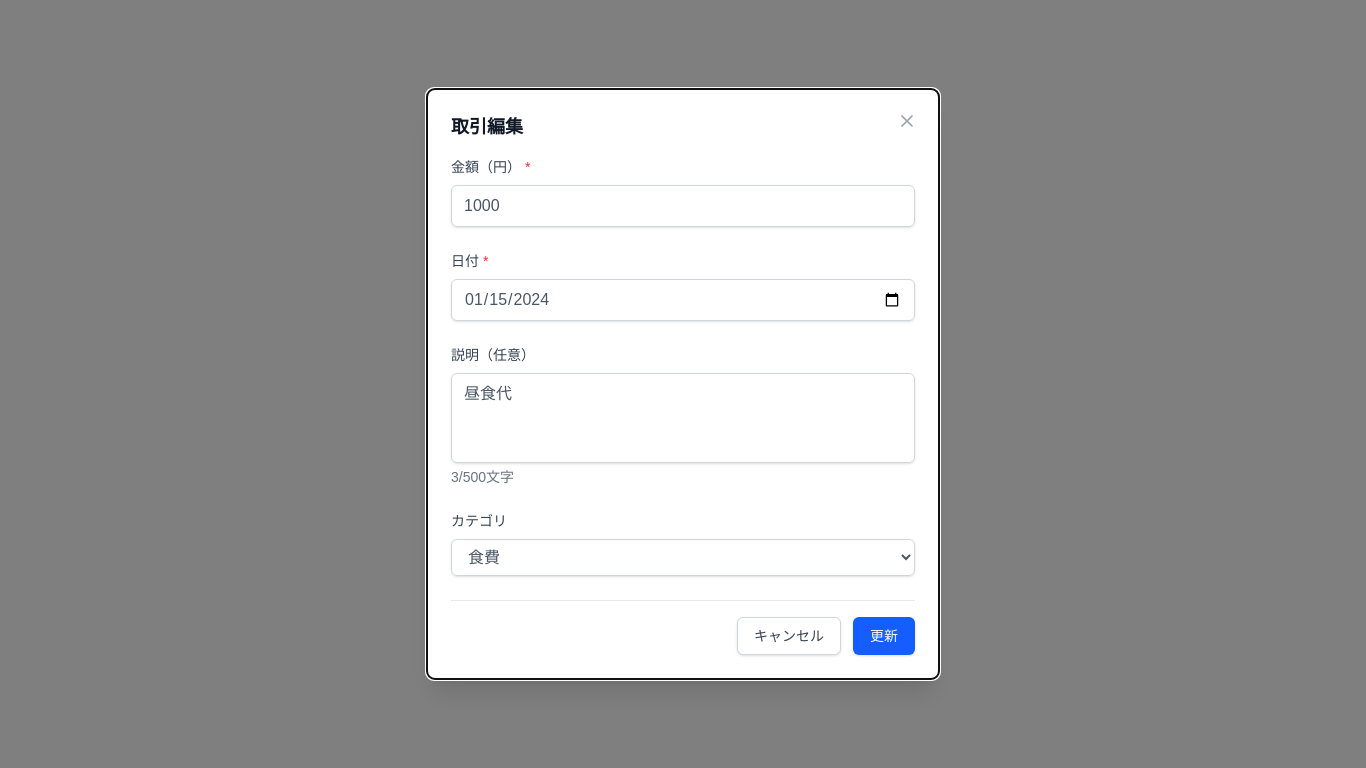
EditExpenseDialog › 送信エラー時にエラーメッセージが表示される
// 送信ボタンをクリック
Click the button "更新".
click(884, 636)  # box [853,617,915,655]
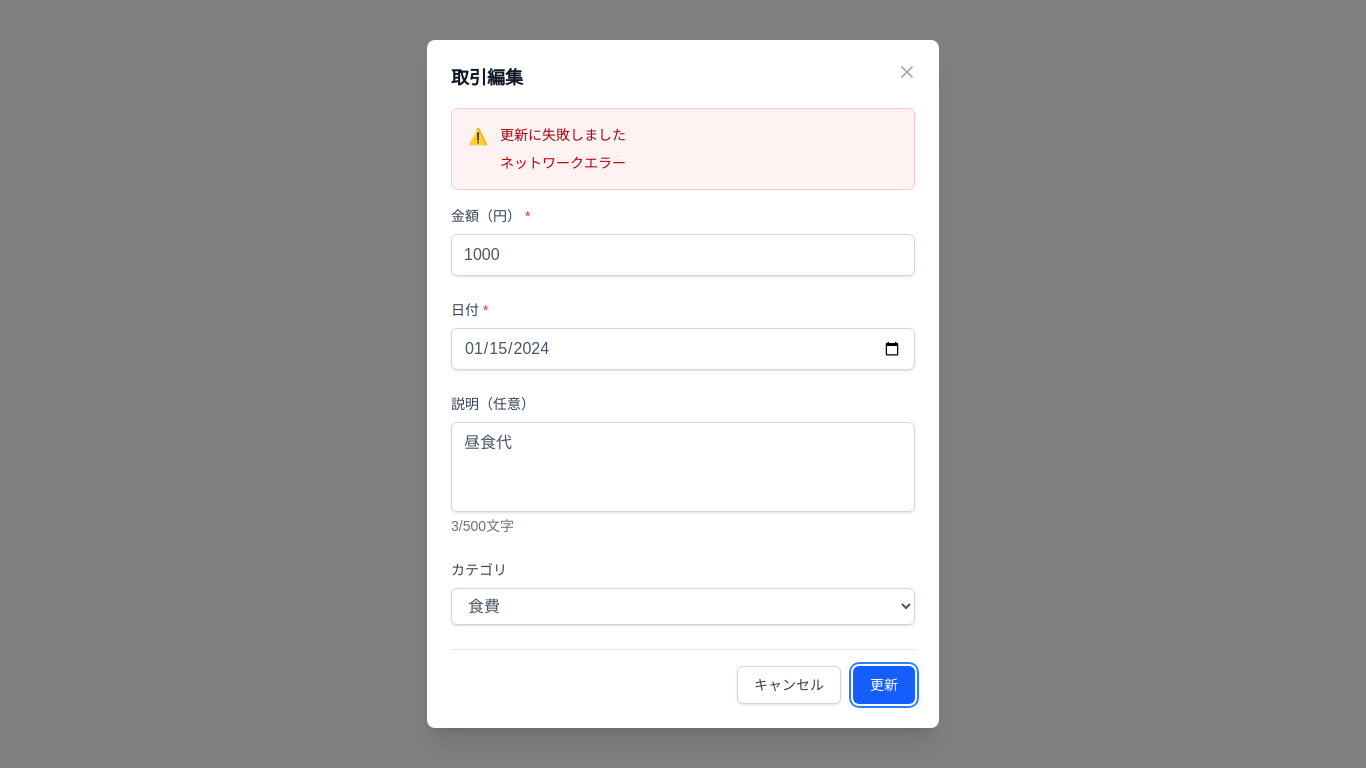
expect the heading "更新に失敗しました" is shown: met, box [500,125,626,145]
expect the text "ネットワークエラー" is shown: met, box [500,153,626,173]
